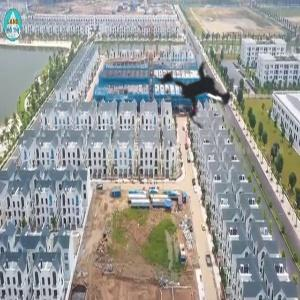drone: (125, 23, 267, 165)
